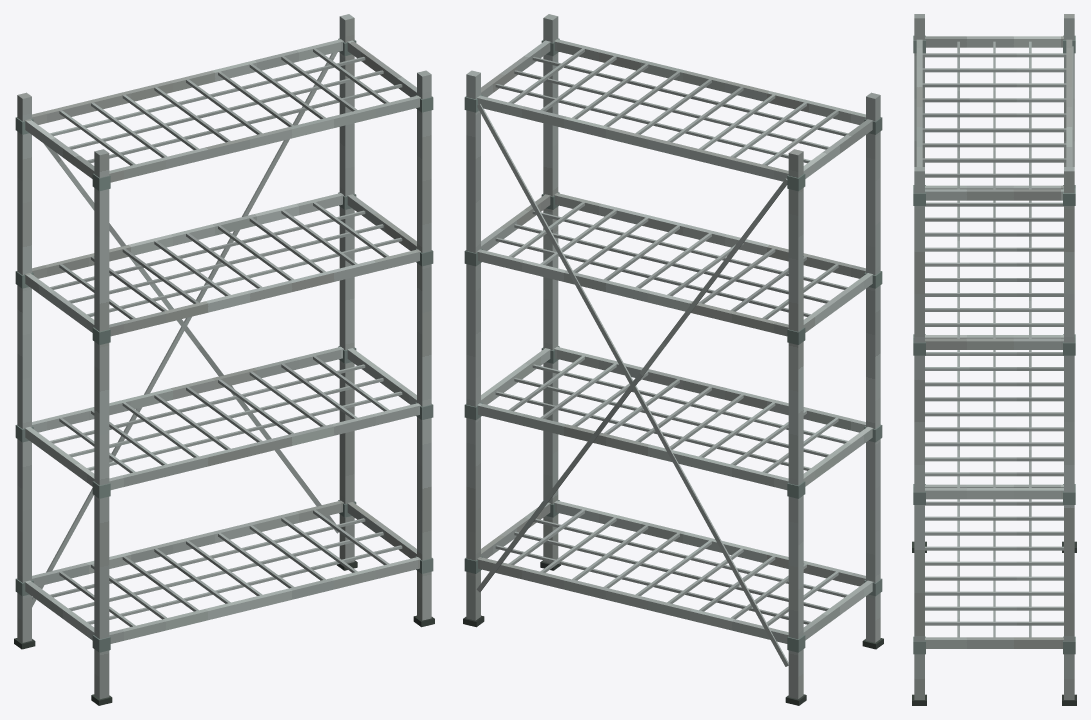
The model's file is iron-4-silver.glb.
3 renders of one model, left to right at view 1: azimuth 30°, elevation 25°; view 2: azimuth 150°, elevation 25°; view 3: azimuth 270°, elevation 25°, orthographic. The views are drawn at different scales.
Parts seen in each view (by area): view 1: iron-4-silver/post-0-0, iron-4-silver/post-1-0, iron-4-silver/post-0-1, iron-4-silver/post-1-1, iron-4-silver/L1-rim-frontback--1, iron-4-silver/L2-rim-frontback--1, iron-4-silver/L4-rim-frontback--1, iron-4-silver/L3-rim-frontback--1, iron-4-silver/L4-rim-frontback-1, iron-4-silver/L2-rim-frontback-1, iron-4-silver/L1-rim-frontback-1, iron-4-silver/L3-rim-frontback-1 (+22 smaller); view 2: iron-4-silver/post-0-1, iron-4-silver/post-0-0, iron-4-silver/post-1-1, iron-4-silver/post-1-0, iron-4-silver/L4-rim-frontback-1, iron-4-silver/L1-rim-frontback-1, iron-4-silver/L3-rim-frontback-1, iron-4-silver/L2-rim-frontback-1, iron-4-silver/L4-rim-frontback--1, iron-4-silver/rear-brace-a, iron-4-silver/L3-rim-frontback--1, iron-4-silver/L1-rim-frontback--1 (+22 smaller); view 3: iron-4-silver/post-1-0, iron-4-silver/post-1-1, iron-4-silver/L1-rim-side-1, iron-4-silver/L2-rim-side-1, iron-4-silver/L3-rim-side-1, iron-4-silver/L4-rim-side-1, iron-4-silver/L4-rim-side--1, iron-4-silver/L4-rim-frontback--1, iron-4-silver/L4-rim-frontback-1, iron-4-silver/post-0-0, iron-4-silver/post-0-1, iron-4-silver/L4-grid-depth-7 (+50 smaller).
Part boxes in pixels (x1,y1,x2,y2): iron-4-silver/post-0-0: (94,149,109,699); iron-4-silver/post-1-0: (417,70,431,620); iron-4-silver/post-0-1: (17,92,31,642); iron-4-silver/post-1-1: (339,14,354,563); iron-4-silver/L1-rim-frontback--1: (109,557,420,643); iron-4-silver/L2-rim-frontback--1: (109,403,420,489); iron-4-silver/L4-rim-frontback--1: (109,95,420,182); iron-4-silver/L3-rim-frontback--1: (109,249,420,336); iron-4-silver/L4-rim-frontback-1: (32,39,343,124); iron-4-silver/L2-rim-frontback-1: (32,346,343,432); iron-4-silver/L1-rim-frontback-1: (32,500,343,586); iron-4-silver/L3-rim-frontback-1: (32,193,343,278); iron-4-silver/post-0-1: (788,149,803,699); iron-4-silver/post-0-0: (866,92,880,642); iron-4-silver/post-1-1: (466,70,480,620); iron-4-silver/post-1-0: (543,14,558,563); iron-4-silver/L4-rim-frontback-1: (477,95,788,181); iron-4-silver/L1-rim-frontback-1: (477,557,788,643); iron-4-silver/L3-rim-frontback-1: (477,249,788,336); iron-4-silver/L2-rim-frontback-1: (477,403,788,489); iron-4-silver/L4-rim-frontback--1: (554,39,865,124); iron-4-silver/rear-brace-a: (477,104,788,666); iron-4-silver/L3-rim-frontback--1: (554,193,865,278); iron-4-silver/L1-rim-frontback--1: (554,500,865,586); iron-4-silver/post-1-0: (914,167,924,699); iron-4-silver/post-1-1: (1064,167,1074,699); iron-4-silver/L1-rim-side-1: (925,637,1063,648); iron-4-silver/L2-rim-side-1: (925,488,1063,499); iron-4-silver/L3-rim-side-1: (925,338,1063,349); iron-4-silver/L4-rim-side-1: (925,189,1063,200); iron-4-silver/L4-rim-side--1: (925,36,1063,47); iron-4-silver/L4-rim-frontback--1: (916,39,922,166); iron-4-silver/L4-rim-frontback-1: (1066,39,1072,166); iron-4-silver/post-0-0: (914,14,924,166); iron-4-silver/post-0-1: (1064,14,1074,166); iron-4-silver/L4-grid-depth-7: (922,158,1066,162).
Size of the model in its own units: 1 by 1.56 by 0.4375.
Materials: 4 (4 with a texture image).
